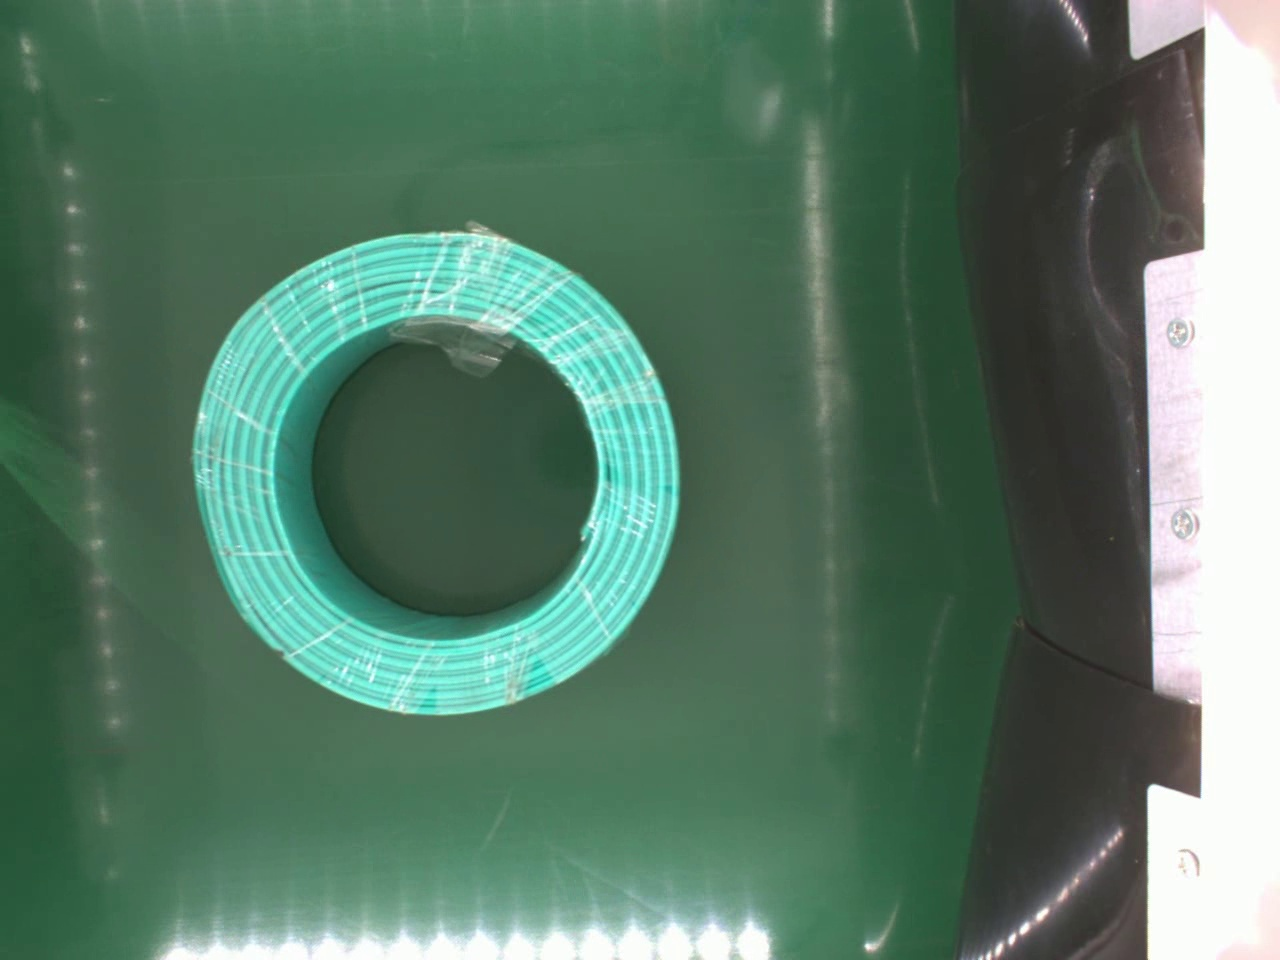green: (187, 222, 678, 717)
